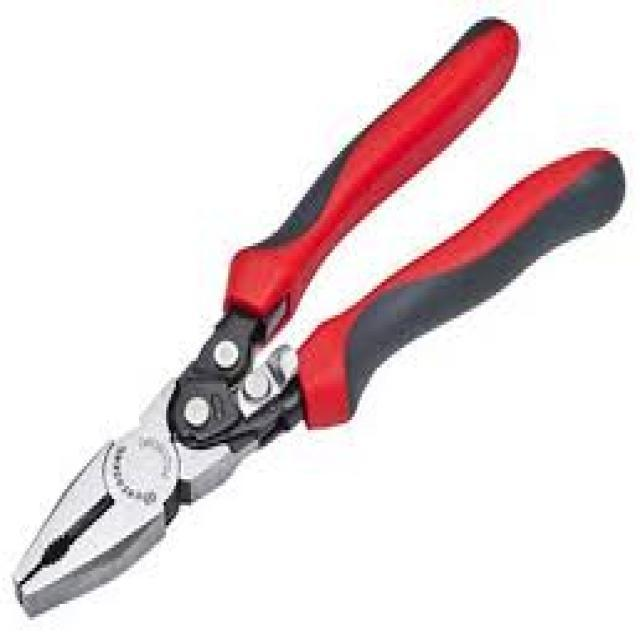pliers: (16, 16, 634, 618)
